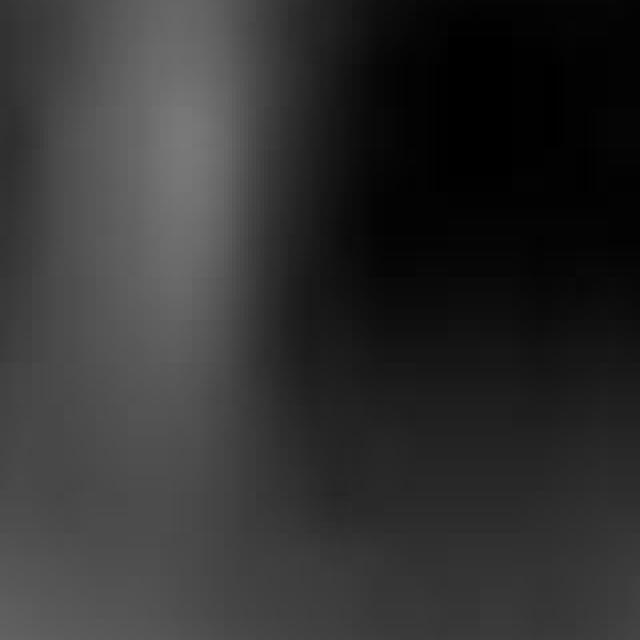person: (9, 1, 293, 550)
